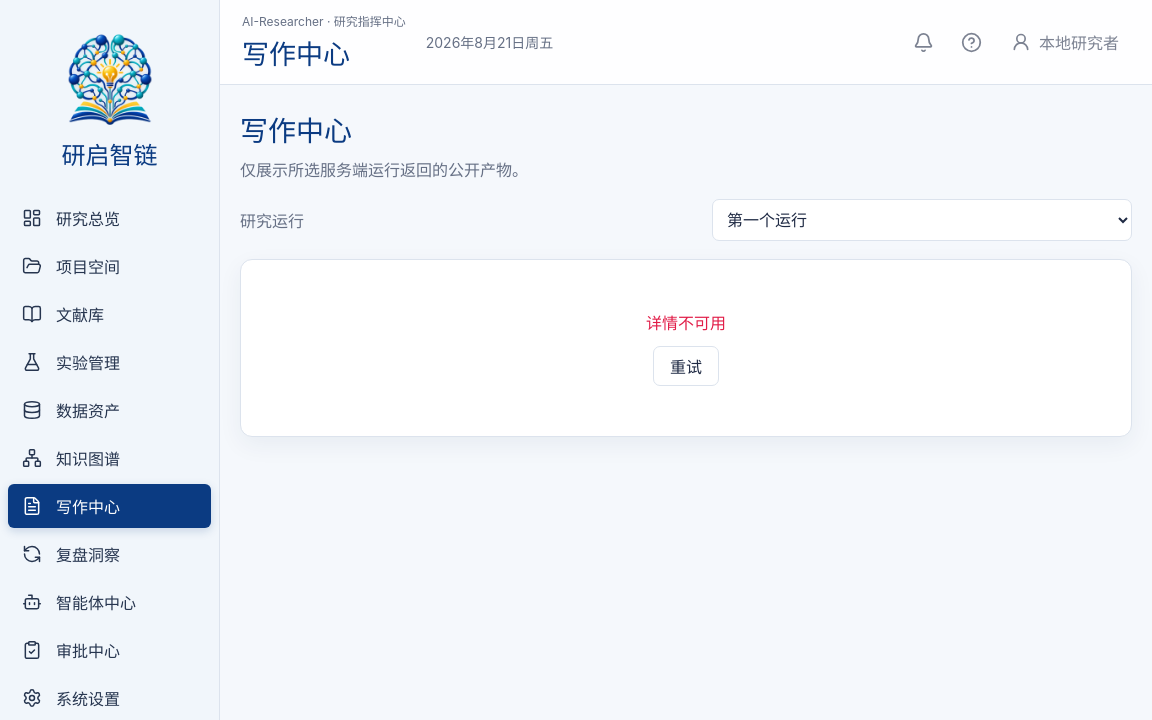
it: retains the selected run across detail errors and retries the exact identity
The image size is (1152, 720).
Check: the dropdown labelled "研究运行" shows "第一个运行", box [712, 199, 1132, 241]
Check: the message shows "详情不可用", box [646, 313, 726, 333]
What coordinates should you click on to do the following:
click the button "重试"
I would click on:
 (686, 366)
Its box is [653, 346, 719, 386].
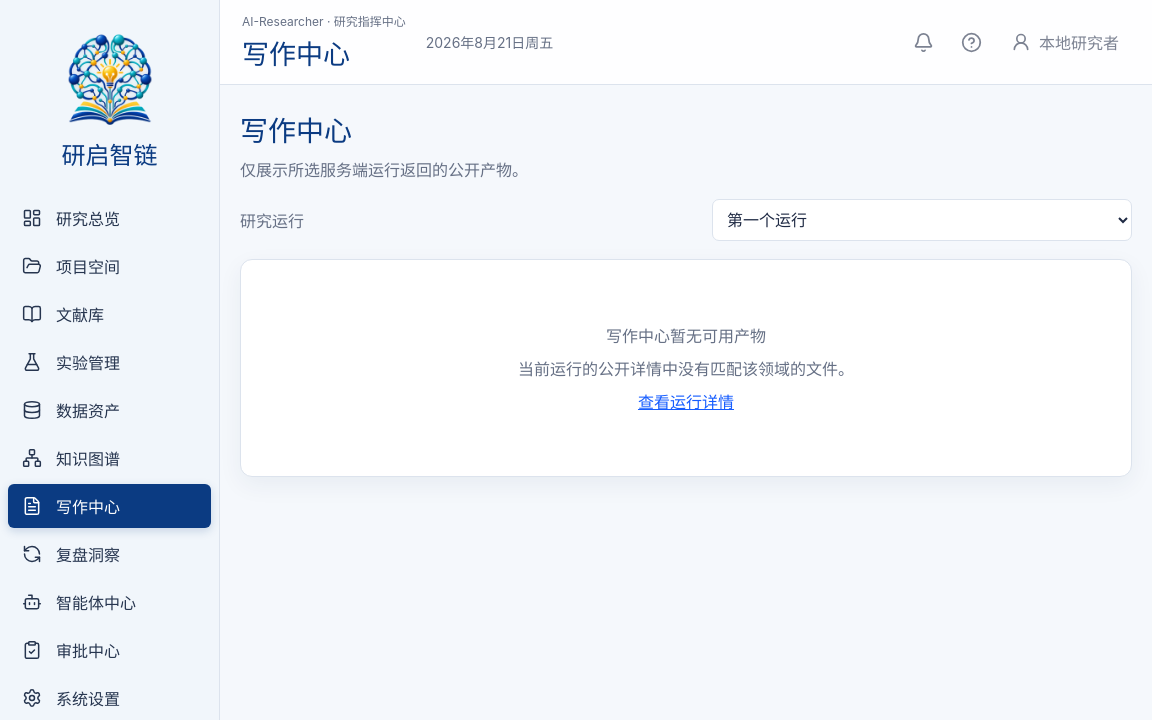
Check: the dropdown labelled "研究运行" shows "第一个运行", box [712, 199, 1132, 241]
Check: the text "写作中心暂无可用产物" is shown, box [606, 323, 766, 347]
